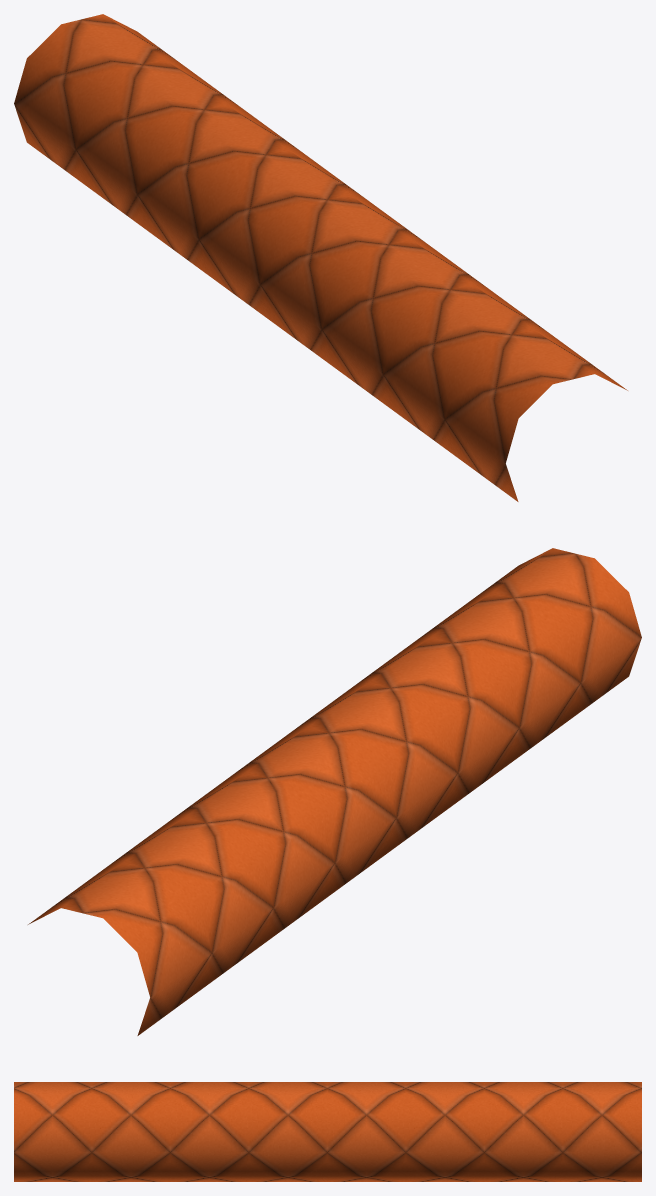
Rendered from whip_segment.glb.
3 views of the same model, one above another, from view 1: azimuth 30°, elevation 25°; view 2: azimuth 150°, elevation 25°; view 3: azimuth 270°, elevation 25° (orthographic). The views are drawn at different scales.
Visible parts, largest first — view 1: Straight braided whip segment; view 2: Straight braided whip segment; view 3: Straight braided whip segment.
Boxes of the visible parts, x1,y1,x2,y2 form: Straight braided whip segment: [14, 14, 627, 501]; Straight braided whip segment: [28, 548, 641, 1035]; Straight braided whip segment: [14, 1082, 641, 1181].
Bounding box in the file's own units: 160 × 152 × 1000.
Materials: 1 (1 with a texture image).
